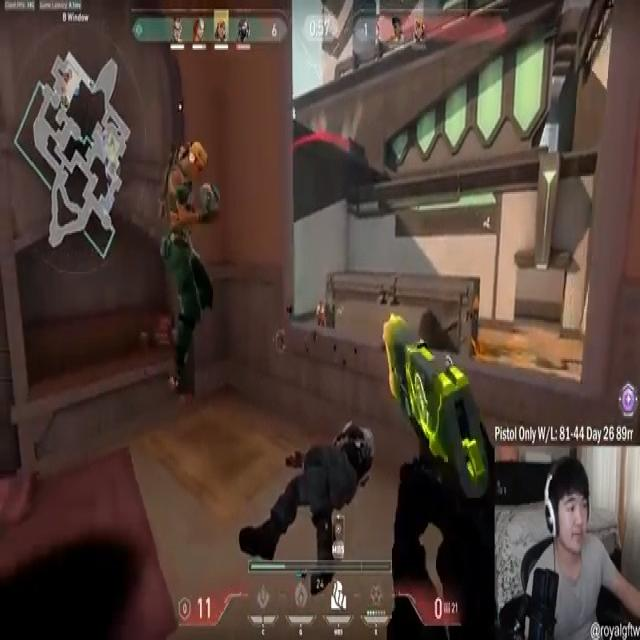ally: (164, 136, 217, 398)
enemy: (316, 298, 325, 329)
